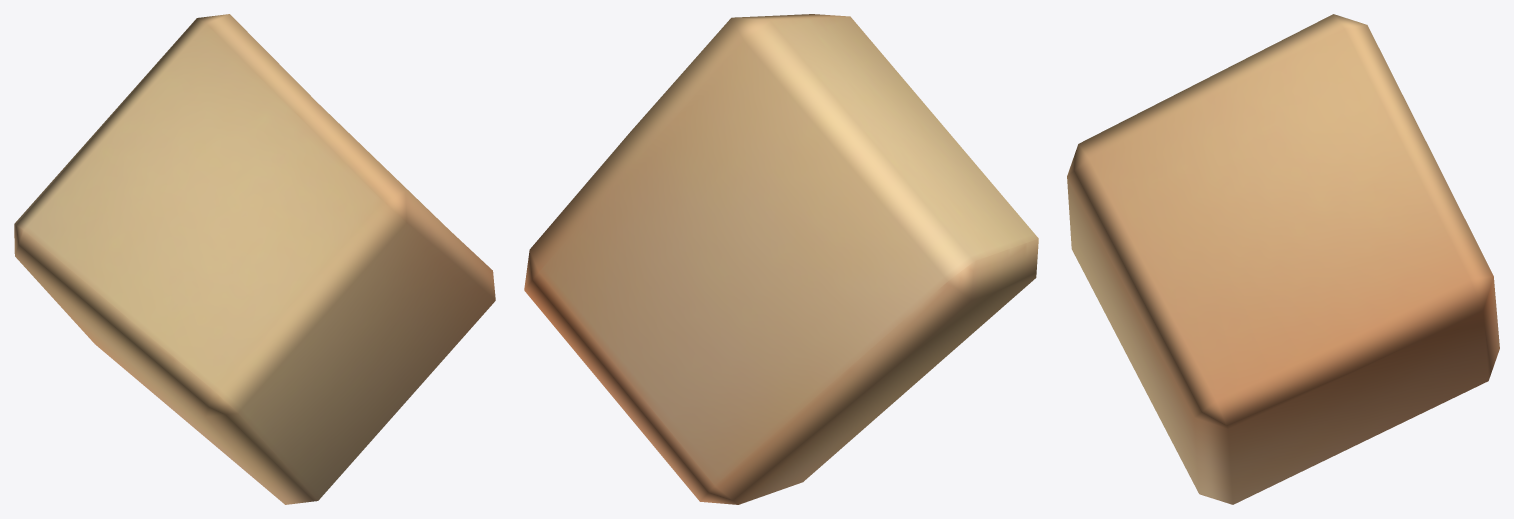
The model's file is JapaneseRestaurant_PotBTofuE.fbx.
3 renders of one model, left to right at view 1: azimuth 30°, elevation 25°; view 2: azimuth 150°, elevation 25°; view 3: azimuth 270°, elevation 25°, orthographic. The views are drawn at different scales.
Parts seen in each view (by area): view 1: JapaneseRestaurant_PotBTofuE; view 2: JapaneseRestaurant_PotBTofuE; view 3: JapaneseRestaurant_PotBTofuE.
Boxes of the visible parts, x1=… form: JapaneseRestaurant_PotBTofuE: x1=14, y1=14, x2=495, y2=504; JapaneseRestaurant_PotBTofuE: x1=524, y1=14, x2=1038, y2=504; JapaneseRestaurant_PotBTofuE: x1=1067, y1=14, x2=1499, y2=504.
Size of the model in its own units: 3.81 by 3.95 by 3.34.
